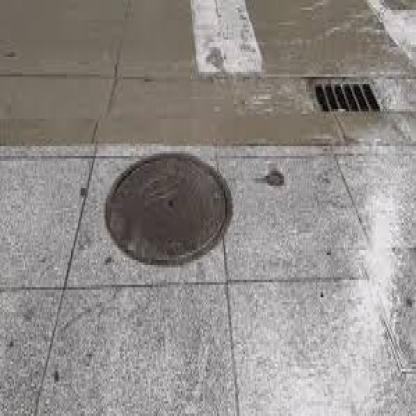closed manhole-not overflowing-: (108, 161, 228, 262)
